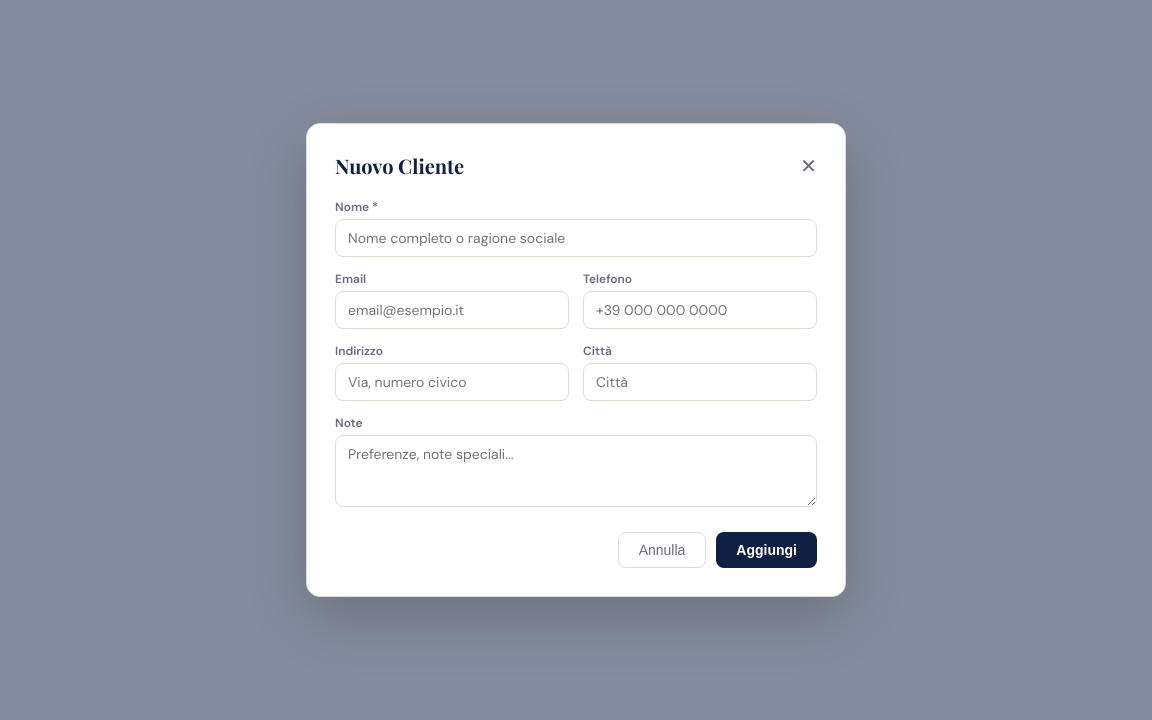
ClienteModal — il nome mancante lo dice, non lo tace › un'email sbagliata ferma il salvataggio e marca il SUO campo, non il nome
This screenshot has width=1152, height=720.
In the field labelled "Nome *": (576, 238) [335,219,817,257], type "Rossi"
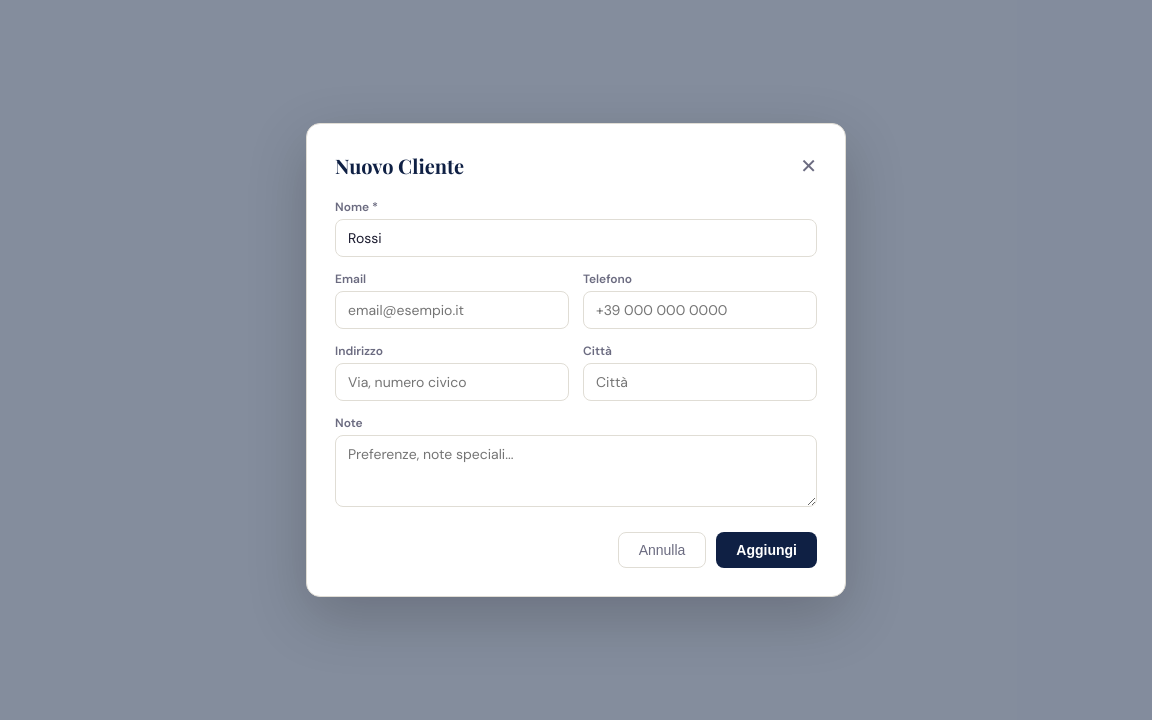
In the field labelled "Email": (452, 310) [335,291,569,329], type "rossi@"
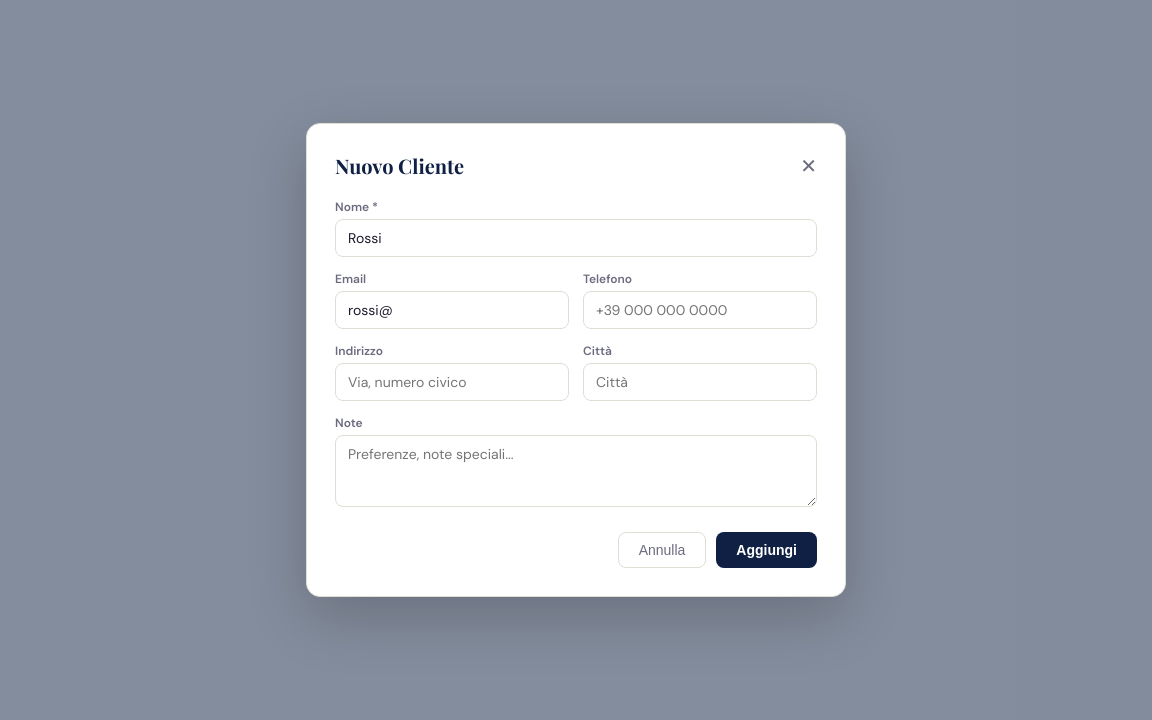
Click the button "Aggiungi": (767, 550) [716,532,817,568]
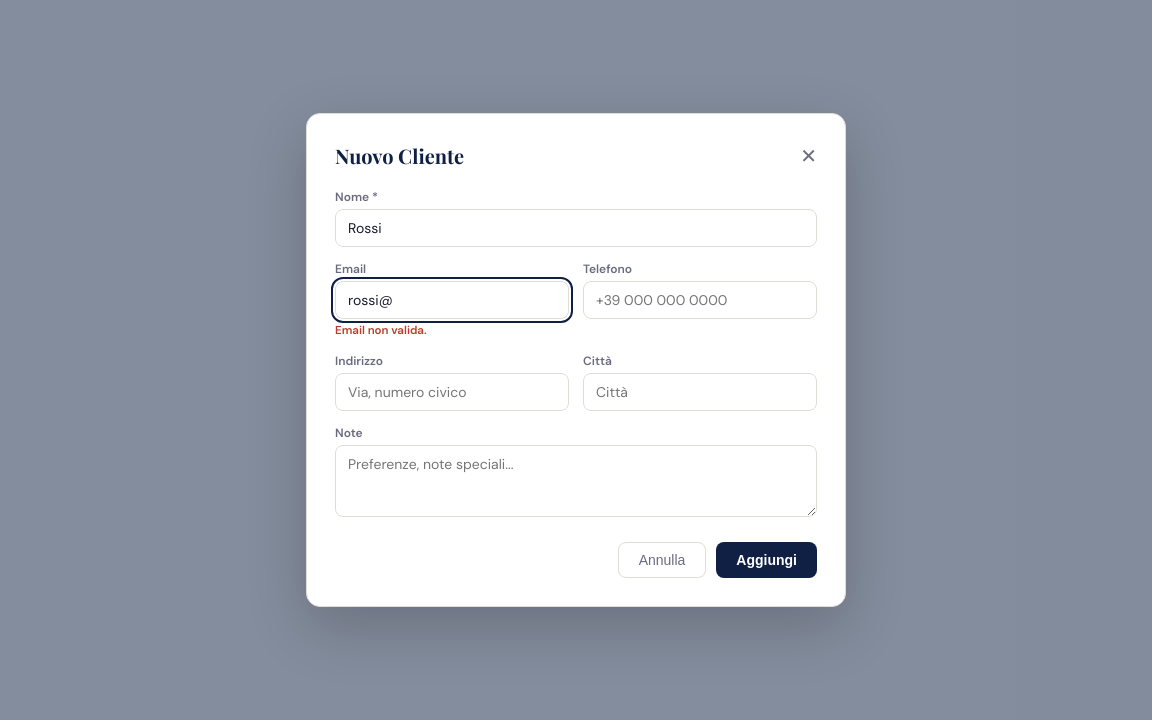
Expected: the message shows "Email non valida", [335,323,427,338]
